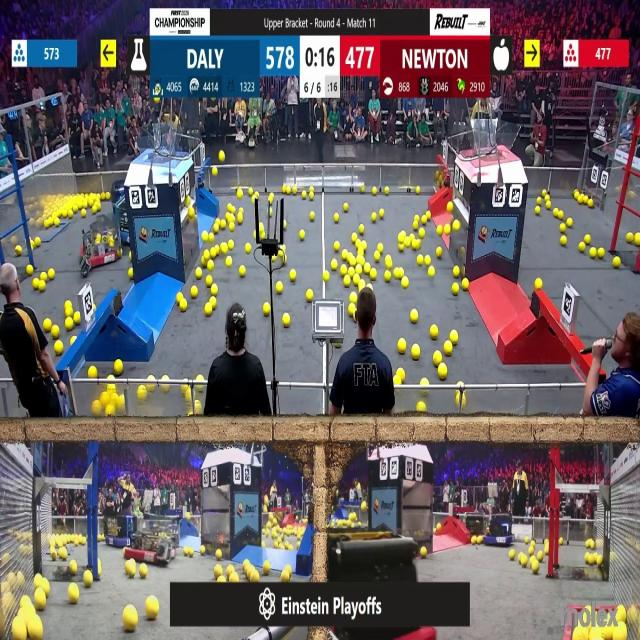ball_ground: (125, 609, 138, 633), (146, 597, 158, 619), (28, 620, 40, 640), (35, 592, 46, 610), (69, 586, 79, 604), (128, 561, 138, 577), (439, 363, 448, 378), (93, 403, 102, 418), (618, 606, 627, 621), (114, 359, 122, 374), (412, 345, 420, 360), (86, 571, 94, 586), (429, 324, 437, 338), (397, 340, 405, 354), (140, 564, 148, 578), (56, 342, 64, 356), (530, 560, 538, 574), (66, 302, 74, 316), (250, 570, 259, 582), (193, 400, 200, 415), (264, 304, 272, 317), (445, 343, 453, 356), (106, 406, 115, 417), (412, 310, 419, 324), (451, 329, 458, 343), (51, 324, 58, 338), (90, 365, 98, 377), (614, 256, 622, 268), (282, 569, 290, 581), (66, 318, 74, 330), (434, 352, 442, 364), (276, 282, 284, 294), (394, 268, 402, 280), (348, 306, 356, 318), (520, 555, 528, 567), (60, 548, 68, 560), (283, 314, 290, 327), (393, 375, 402, 385), (418, 401, 426, 412), (307, 289, 314, 301), (74, 312, 80, 326), (70, 562, 77, 574), (231, 573, 240, 582), (452, 284, 460, 294), (627, 234, 635, 244), (349, 292, 357, 302), (412, 240, 420, 250), (396, 367, 404, 377), (224, 220, 232, 230), (356, 255, 364, 265), (386, 255, 392, 268), (289, 271, 296, 282), (180, 301, 187, 312), (369, 270, 376, 281), (330, 261, 337, 272), (214, 565, 221, 576), (205, 306, 212, 317), (218, 150, 225, 161), (44, 319, 50, 331), (265, 561, 271, 573), (421, 548, 427, 560), (218, 220, 224, 232), (572, 631, 580, 640), (534, 280, 541, 290), (211, 285, 218, 295), (47, 270, 54, 280), (597, 248, 604, 258), (385, 272, 392, 282), (210, 296, 217, 306), (453, 220, 460, 230), (590, 248, 597, 258), (207, 262, 214, 272), (363, 265, 370, 275), (507, 550, 514, 560), (185, 548, 192, 558), (349, 255, 356, 265), (28, 266, 34, 277), (190, 286, 196, 297), (129, 269, 135, 280), (345, 276, 351, 287), (39, 281, 45, 292), (398, 233, 404, 244), (454, 268, 460, 279), (243, 242, 249, 253), (374, 253, 381, 262), (355, 266, 362, 275), (435, 225, 442, 234), (238, 214, 245, 223), (187, 208, 194, 217), (226, 565, 233, 574), (401, 278, 407, 288), (323, 272, 329, 282), (225, 256, 231, 266), (298, 231, 304, 241), (462, 280, 468, 290), (195, 269, 201, 279), (435, 248, 441, 258), (240, 268, 246, 278), (418, 255, 424, 265), (428, 268, 434, 278), (424, 255, 430, 265), (578, 243, 584, 253), (15, 245, 21, 255), (370, 212, 376, 222), (445, 224, 451, 234), (227, 240, 233, 250), (335, 242, 341, 252), (448, 203, 454, 213), (33, 280, 39, 290), (259, 232, 265, 242), (210, 248, 216, 258), (342, 266, 348, 276), (353, 276, 359, 286), (206, 276, 212, 286), (237, 188, 243, 198), (221, 244, 227, 254), (342, 250, 348, 260), (587, 538, 593, 548), (586, 554, 592, 564), (596, 556, 602, 566), (230, 222, 237, 230), (478, 536, 485, 544), (410, 234, 418, 241), (35, 238, 41, 247), (560, 237, 566, 246), (419, 230, 425, 239), (586, 236, 592, 245), (358, 224, 364, 233), (380, 209, 386, 218), (413, 221, 419, 230), (544, 201, 550, 210), (554, 209, 560, 218), (204, 249, 210, 258), (202, 257, 208, 266), (537, 553, 543, 562), (335, 213, 341, 222), (40, 272, 46, 281), (225, 212, 231, 221), (384, 186, 390, 195), (360, 241, 366, 250), (269, 193, 275, 202), (51, 552, 57, 561), (358, 280, 364, 289), (282, 184, 288, 193), (216, 551, 221, 561), (308, 212, 313, 222), (635, 236, 640, 246), (559, 210, 564, 220), (218, 575, 225, 582), (230, 206, 237, 213), (378, 244, 384, 252), (80, 209, 86, 217), (203, 234, 209, 242), (212, 168, 218, 176), (93, 206, 99, 214), (422, 378, 428, 386), (524, 536, 530, 544), (252, 232, 258, 240), (303, 190, 309, 198), (148, 374, 154, 382), (567, 218, 572, 227), (352, 234, 357, 243), (561, 223, 566, 232), (361, 502, 366, 511), (209, 234, 214, 243), (269, 209, 275, 216), (70, 338, 76, 345), (529, 546, 534, 554), (344, 204, 349, 212), (398, 244, 403, 252), (470, 536, 475, 544), (589, 200, 594, 208), (371, 187, 376, 195), (68, 210, 73, 218), (56, 218, 61, 226), (106, 191, 111, 199), (432, 527, 437, 535), (258, 222, 263, 230), (351, 514, 356, 522), (559, 537, 564, 545), (44, 220, 49, 228), (177, 291, 182, 299), (202, 544, 206, 553), (283, 220, 287, 229), (187, 412, 193, 418), (426, 211, 430, 220), (416, 214, 420, 223), (536, 199, 541, 206), (416, 186, 421, 193), (543, 546, 548, 553), (226, 205, 231, 212), (199, 374, 204, 381), (535, 207, 539, 215), (273, 254, 277, 262), (98, 567, 102, 575), (214, 224, 218, 232), (249, 188, 253, 196), (308, 194, 312, 202), (356, 241, 360, 249), (360, 185, 364, 193), (279, 251, 284, 257), (239, 208, 244, 214), (544, 193, 548, 200), (98, 560, 102, 566), (186, 514, 190, 520), (543, 538, 547, 544)
goal: (466, 121, 521, 160), (130, 129, 190, 160)
robot_blue: (482, 514, 514, 546), (102, 516, 128, 548)
robot_red: (326, 548, 436, 640), (128, 515, 179, 564), (81, 224, 121, 268), (464, 513, 486, 536)
